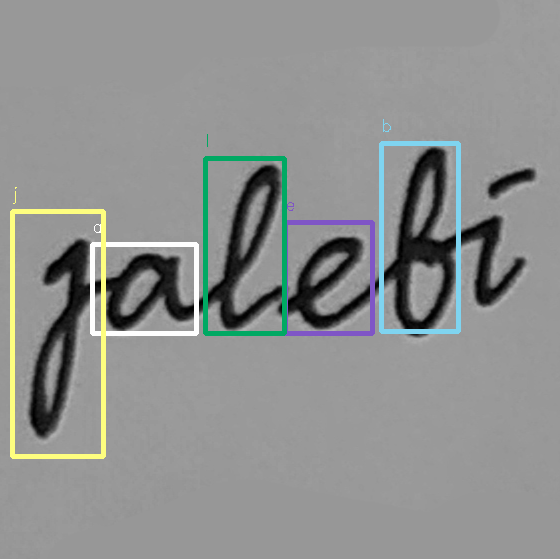a: (100, 245, 191, 333)
b: (381, 143, 464, 342)
e: (292, 230, 371, 331)
i: (468, 177, 527, 310)
j: (23, 233, 94, 443)
l: (212, 160, 288, 336)
